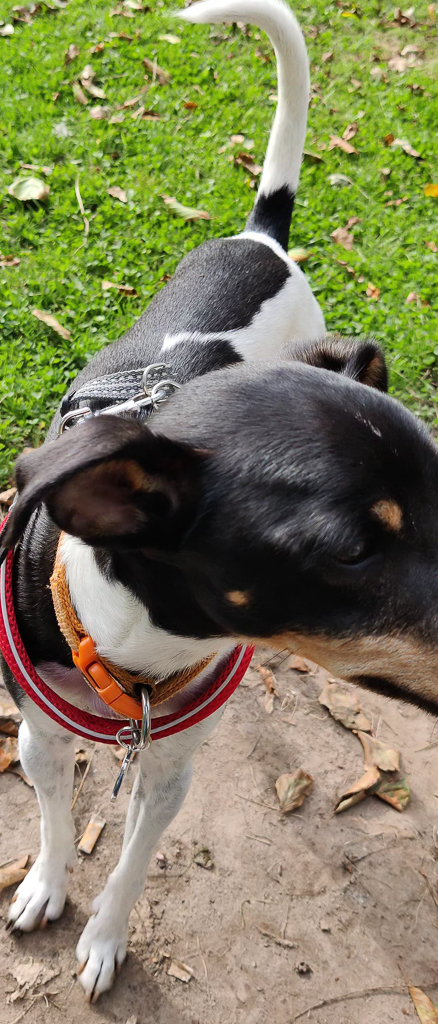Dog: (0, 0, 438, 1017)
